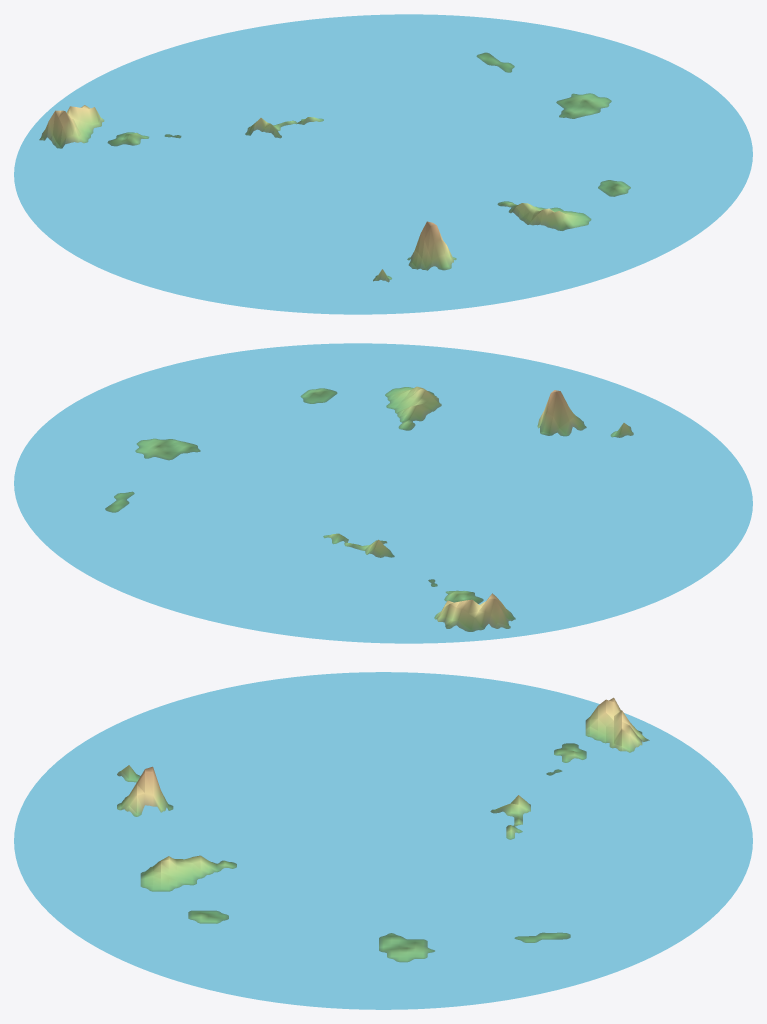
File: CPV-terrain.glb
3 views of the same model, one above another, from view 1: azimuth 30°, elevation 25°; view 2: azimuth 150°, elevation 25°; view 3: azimuth 270°, elevation 25° (orthographic). The views are drawn at different scales.
Visible parts, largest first — view 1: Relevo com hidrografia; view 2: Relevo com hidrografia; view 3: Relevo com hidrografia.
Boxes of the visible parts, left/top/right/bottom form: Relevo com hidrografia: left=14, top=14, right=752, bottom=314; Relevo com hidrografia: left=14, top=343, right=752, bottom=643; Relevo com hidrografia: left=14, top=672, right=752, bottom=1009.
Bounding box in the file's own units: 2.27 × 0.1274 × 2.09.
2 materials, 1 textured.
